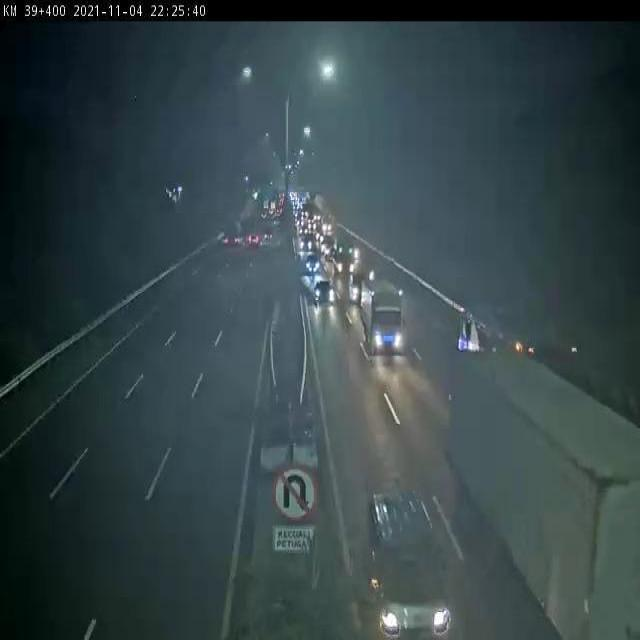car: (369, 492, 454, 640), (314, 278, 336, 306)
truck: (366, 280, 406, 357)
